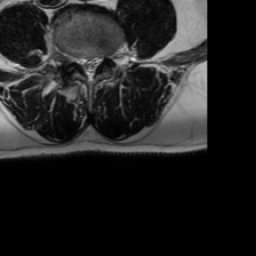CCS_normal: (86, 50, 94, 87)
LFS_severe_stenosis: (102, 48, 110, 69)
LLS_normal: (94, 50, 103, 76)
RFS_stenosis: (70, 47, 79, 71)
RLS_normal: (78, 49, 86, 76)
